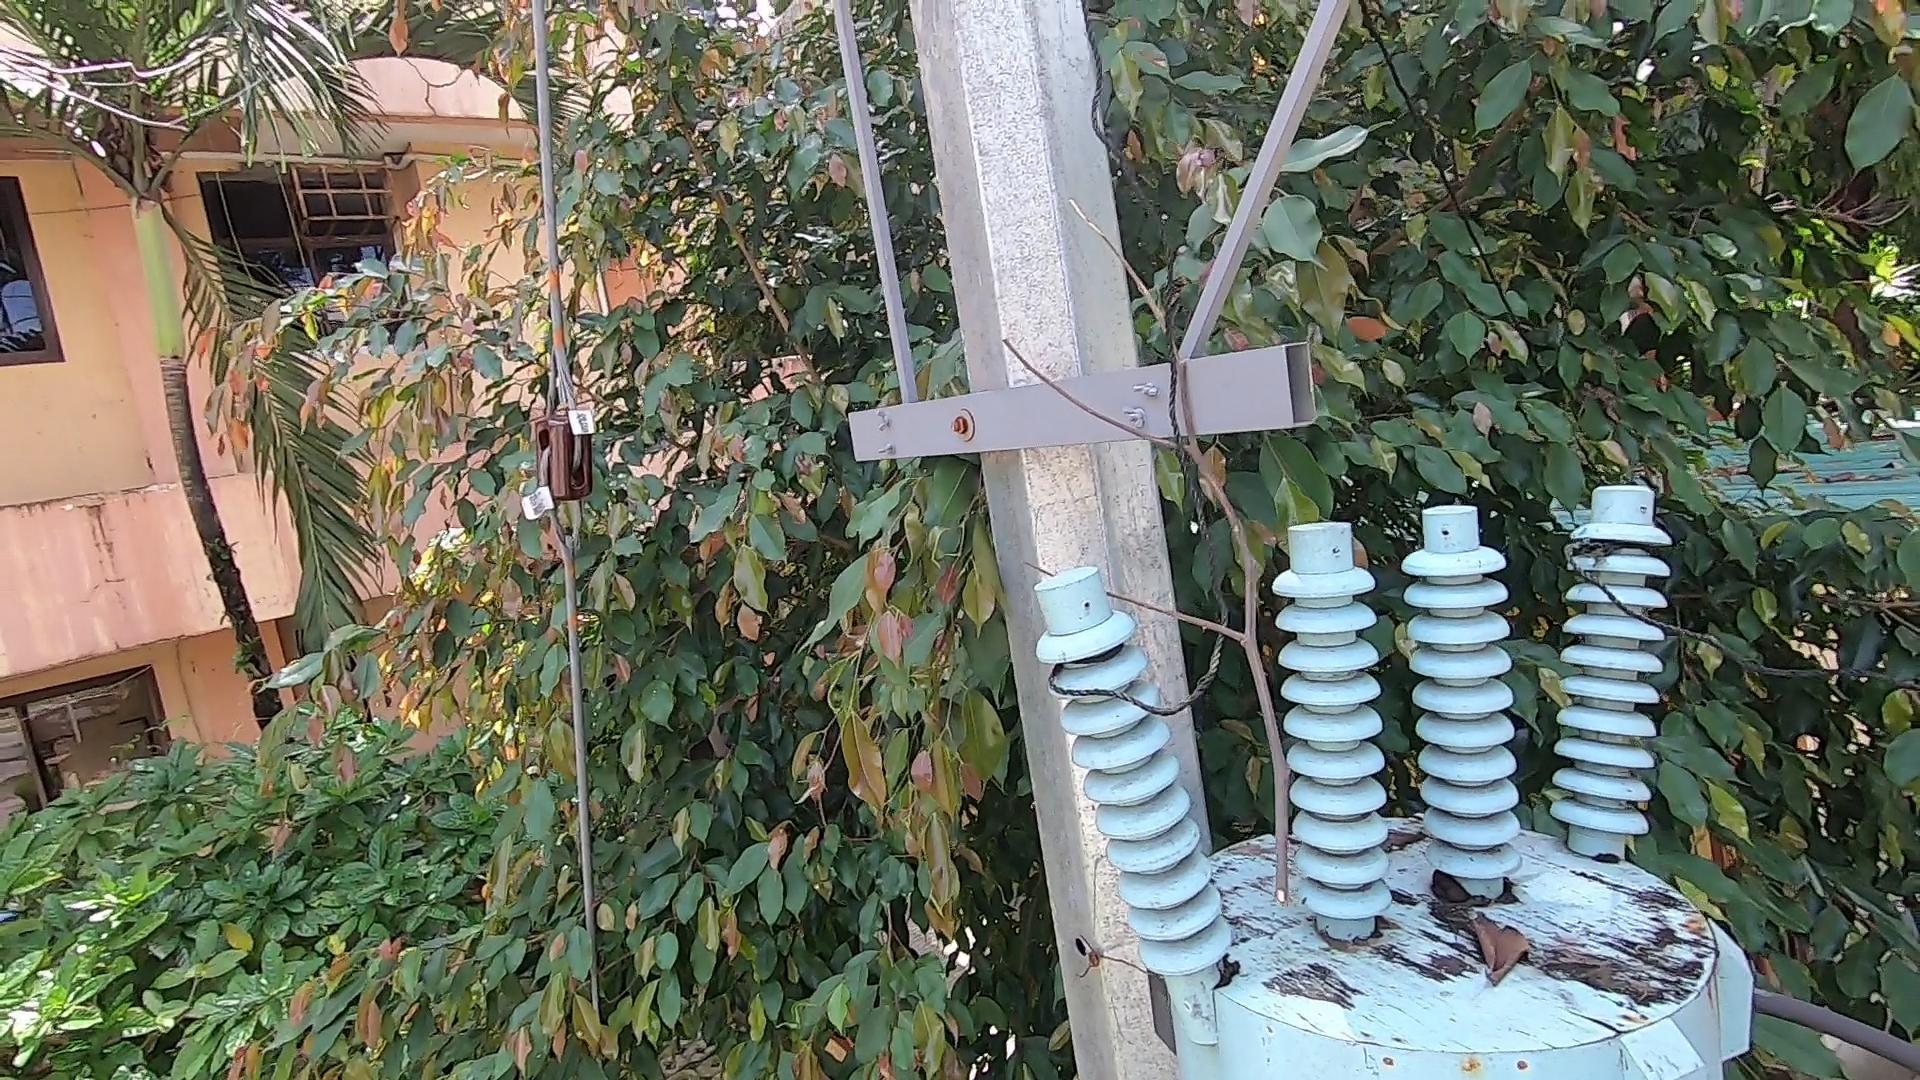leaf: (1460, 907, 1538, 993), (1425, 860, 1481, 923)
tree branch: (990, 189, 1331, 902)
